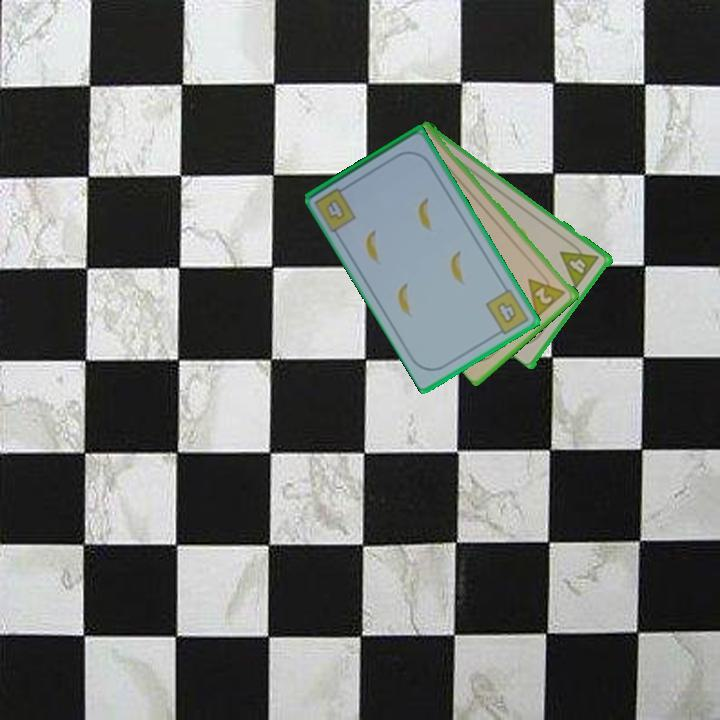2p: (524, 268, 569, 320)
4b: (482, 285, 532, 339), (325, 198, 346, 221)
4p: (557, 238, 602, 290)
